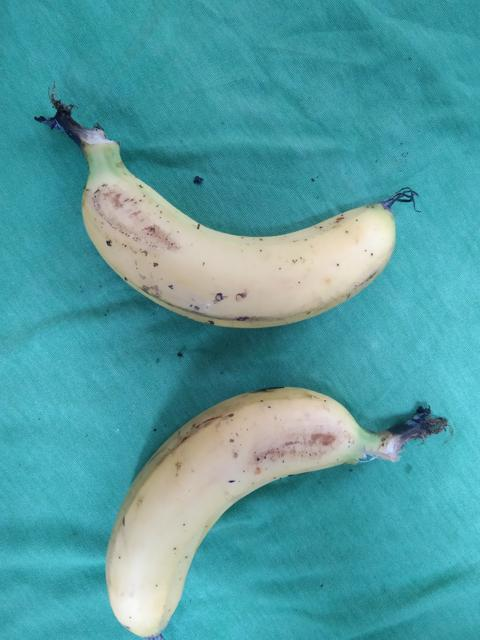freshripe: (98, 375, 377, 639)
ripe: (69, 142, 409, 345)
